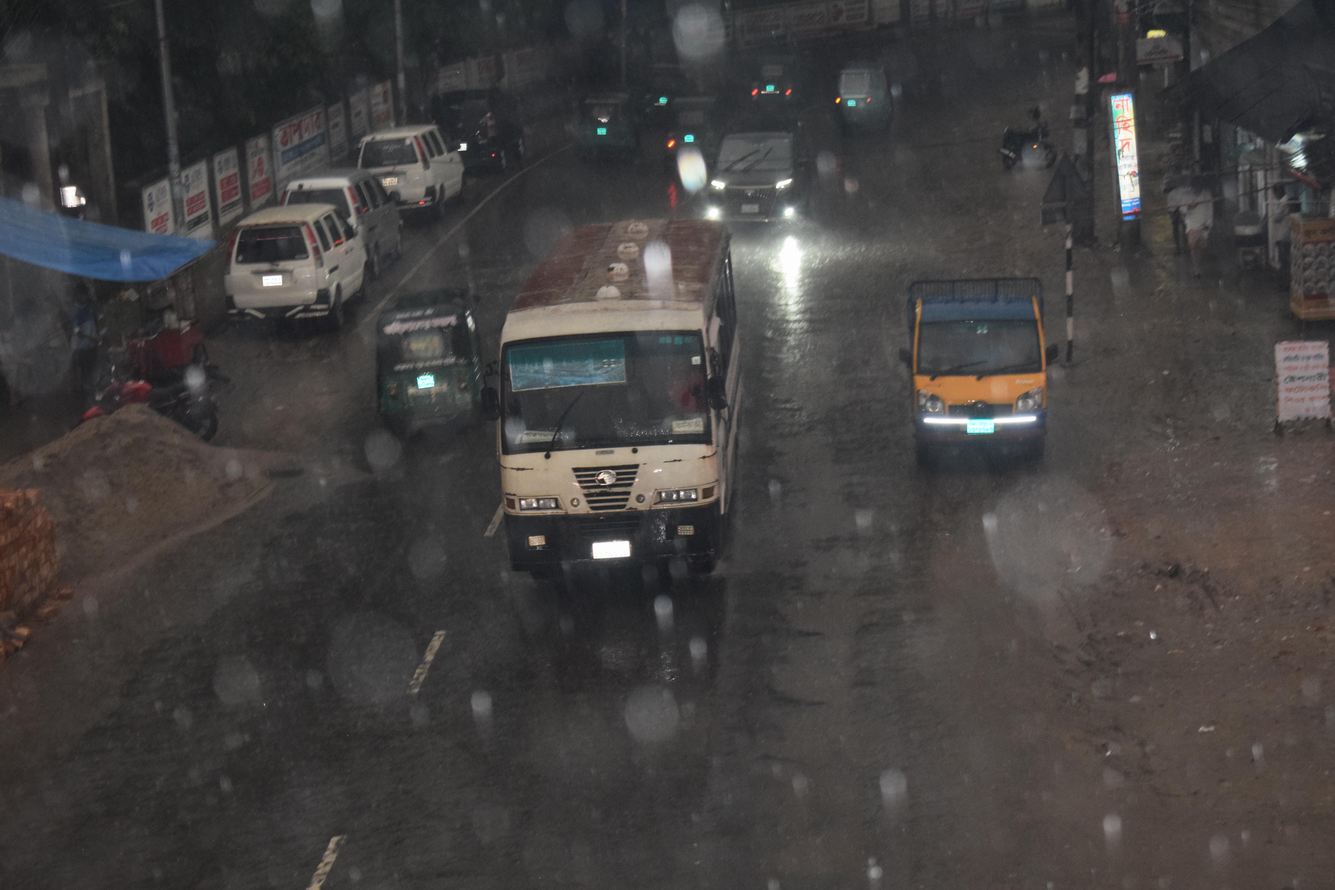Bus: (469, 192, 797, 629)
Car: (193, 202, 395, 341), (256, 150, 434, 288), (332, 113, 488, 239), (682, 117, 834, 242), (412, 69, 549, 189)
Truck: (871, 228, 1108, 499)
